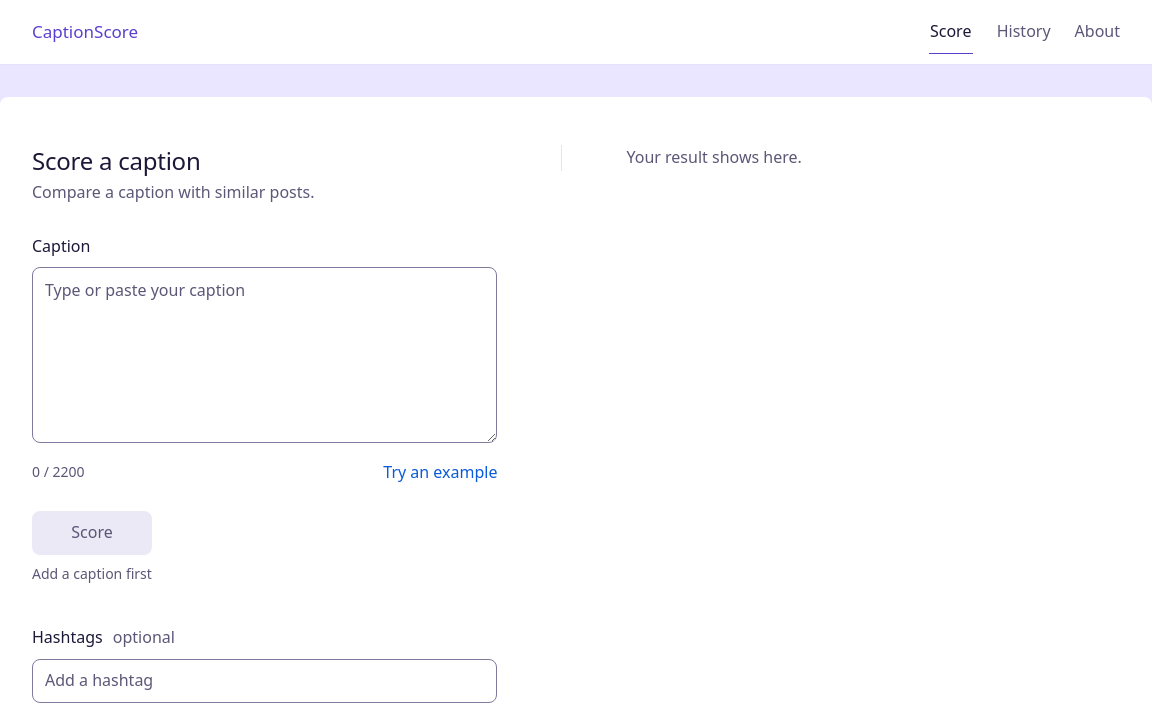
Score page › says what to do when the backend is unreachable
In the text box labelled "Caption": (265, 355) x1=32 y1=267 x2=498 y2=443, type "hello"
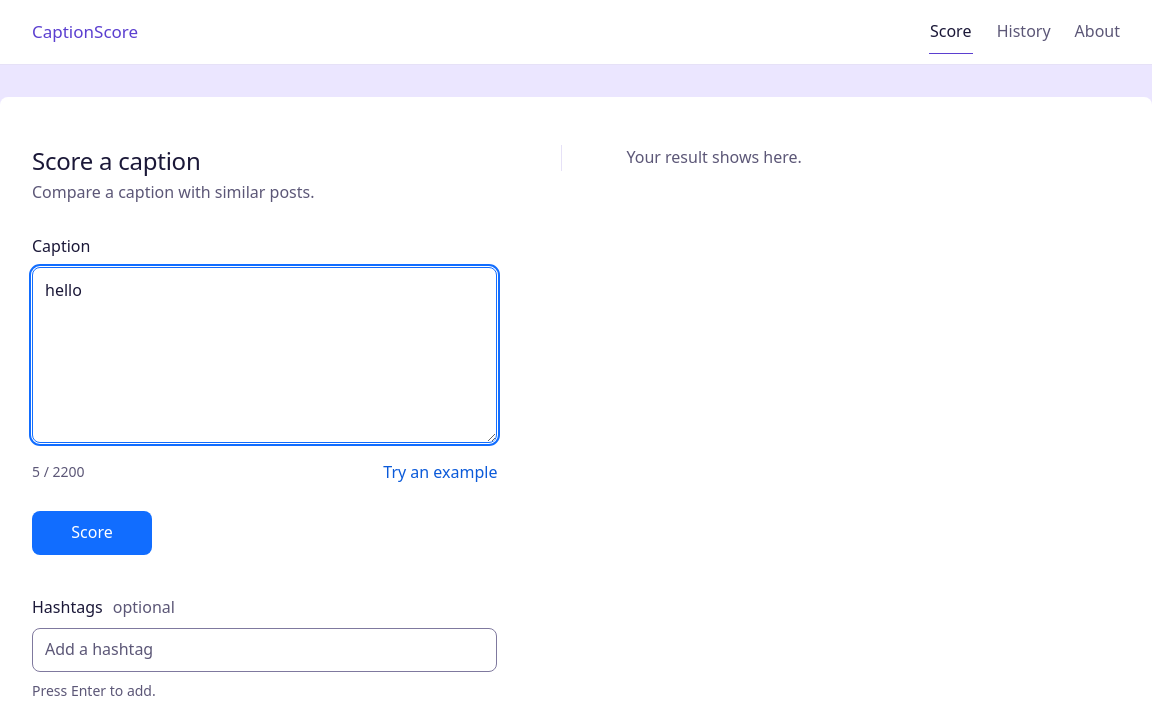
Click the button "Score": (92, 532) x1=32 y1=510 x2=152 y2=554
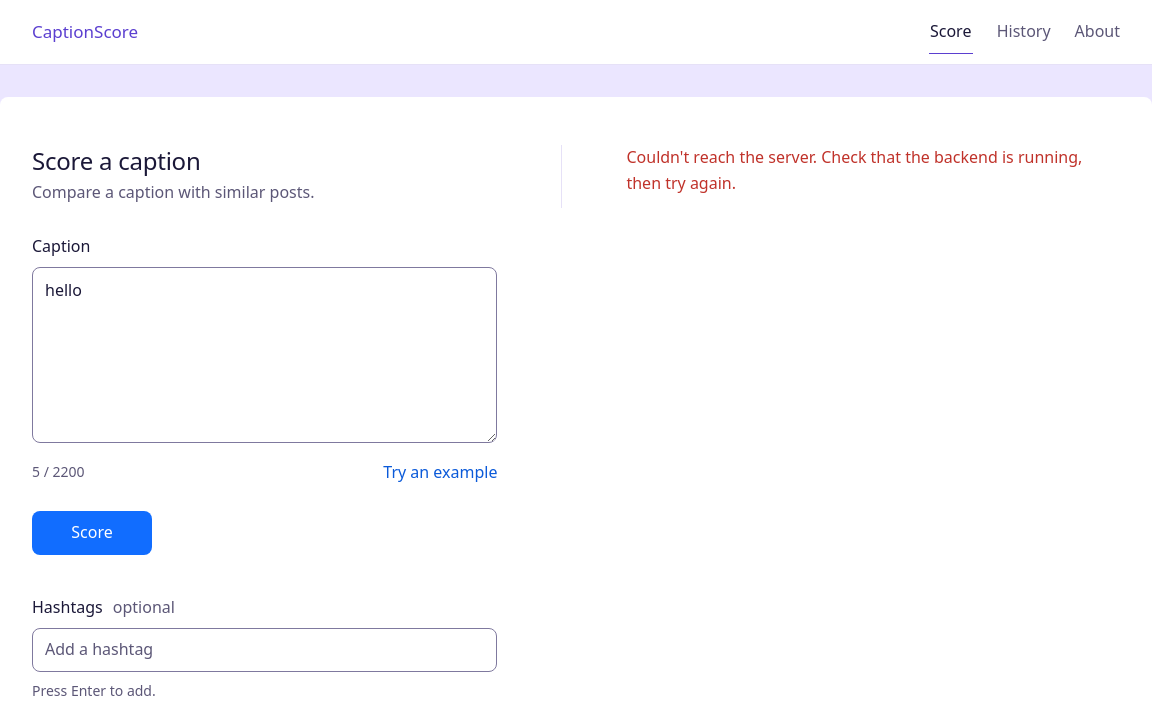
Expected: the message shows "Couldn't reach the server. Check that the backend is running", x1=626 y1=146 x2=1082 y2=194
